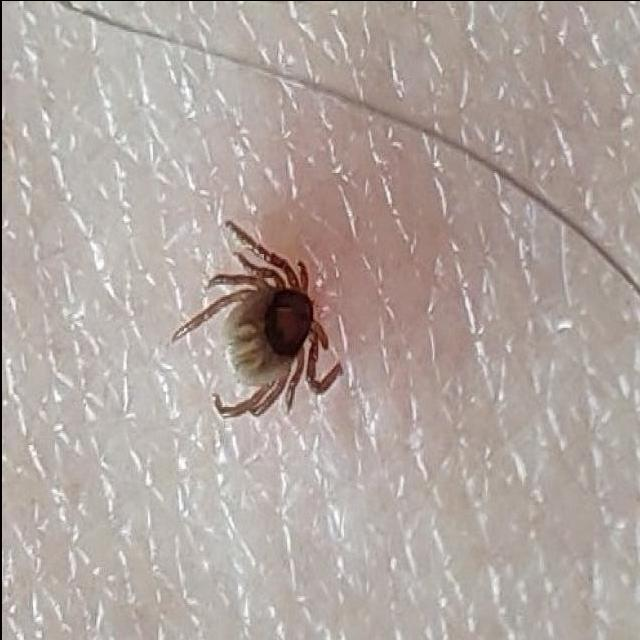Ixodes Ricinus-F: (165, 218, 342, 418)
